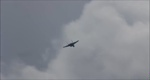maybay_muctieu: (63, 40, 81, 50)
